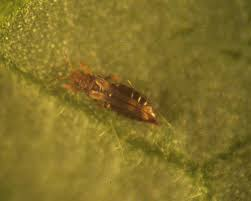Thrips: (58, 56, 172, 133)
